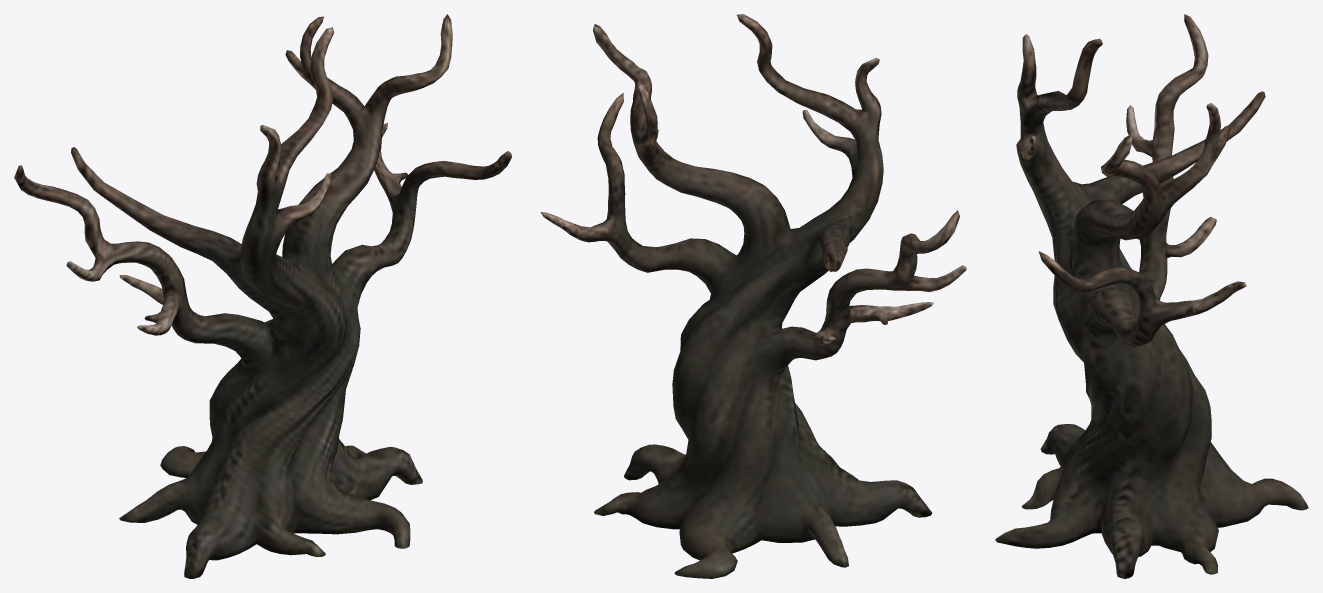
Rendered from arvore-seca.glb.
3 views of the same model, side by side, from view 1: azimuth 30°, elevation 25°; view 2: azimuth 150°, elevation 25°; view 3: azimuth 270°, elevation 25° (orthographic). The views are drawn at different scales.
Parts seen in each view (by area): view 1: tripo_node_d50ea3ba-46a1-4507-ad5f-0710f323e25d; view 2: tripo_node_d50ea3ba-46a1-4507-ad5f-0710f323e25d; view 3: tripo_node_d50ea3ba-46a1-4507-ad5f-0710f323e25d.
Part boxes in pixels (x1,y1,x2,y2): tripo_node_d50ea3ba-46a1-4507-ad5f-0710f323e25d: (14, 14, 511, 578); tripo_node_d50ea3ba-46a1-4507-ad5f-0710f323e25d: (540, 14, 966, 578); tripo_node_d50ea3ba-46a1-4507-ad5f-0710f323e25d: (995, 14, 1308, 578).
Bounding box in the file's own units: 0.9121 × 0.998 × 0.5801.
2 materials, 1 textured.
